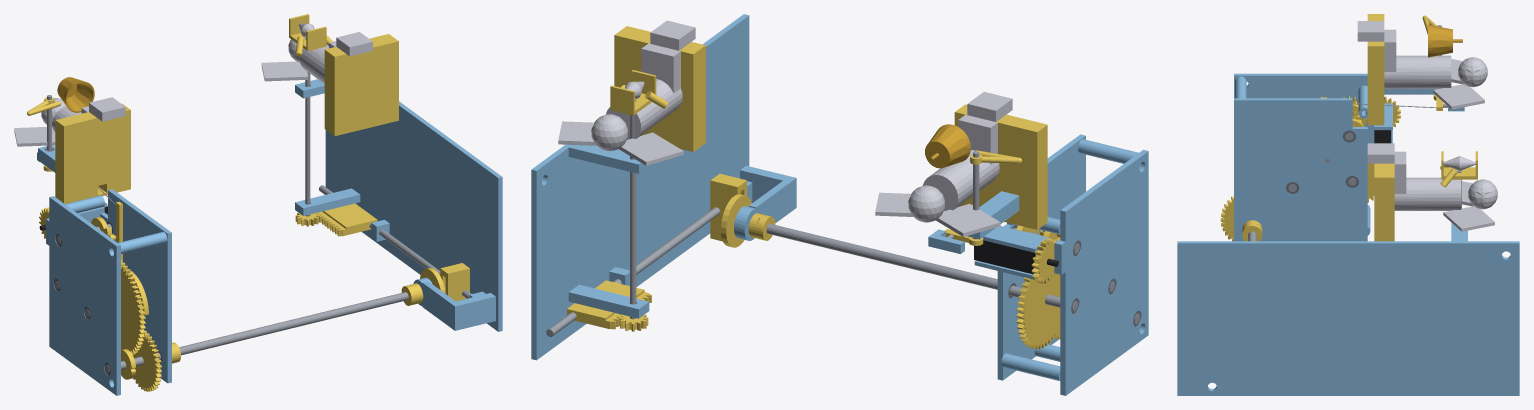
File: e1_angels.dae
3 renders of one model, left to right at view 1: azimuth 30°, elevation 25°; view 2: azimuth 150°, elevation 25°; view 3: azimuth 270°, elevation 25°, orthographic. The views are drawn at different scales.
Visible parts, largest first — view 1: glass_tower_plate, tower_outer_plate, plinth_glass, plinth_bell, tower_inner_plate, figure_glass, glass_crank_block, cross_shaft, figure_bell, count_wheel_60, rack, cross_gear_36 (+7 smaller); view 2: glass_tower_plate, tower_outer_plate, figure_bell, figure_glass, plinth_bell, plinth_glass, tower_inner_plate, glass_crank_block, cross_shaft, intermediate_48_12, tower_pillars, gearmotor_bracket (+13 smaller); view 3: glass_tower_plate, tower_inner_plate, figure_bell, figure_glass, tower_outer_plate, plinth_glass, plinth_bell, bell, tower_pillars, forearms_and_frame, gearmotor_bracket, cross_gear_36 (+3 smaller).
Boxes of the visible parts, bbox=[...] form: glass_tower_plate: bbox=[325, 101, 502, 331]; tower_outer_plate: bbox=[49, 196, 120, 395]; plinth_glass: bbox=[324, 34, 398, 135]; plinth_bell: bbox=[55, 104, 130, 203]; tower_inner_plate: bbox=[100, 189, 171, 383]; figure_glass: bbox=[261, 32, 372, 83]; glass_crank_block: bbox=[413, 277, 495, 330]; cross_shaft: bbox=[179, 292, 408, 355]; figure_bell: bbox=[14, 97, 125, 146]; count_wheel_60: bbox=[121, 260, 145, 355]; rack: bbox=[316, 203, 377, 236]; cross_gear_36: bbox=[133, 330, 161, 391]; glass_tower_plate: bbox=[531, 14, 749, 360]; tower_outer_plate: bbox=[1060, 149, 1148, 395]; figure_bell: bbox=[875, 92, 1012, 236]; figure_glass: bbox=[558, 20, 695, 165]; plinth_bell: bbox=[954, 104, 1047, 229]; plinth_glass: bbox=[614, 26, 705, 151]; tower_inner_plate: bbox=[997, 134, 1085, 380]; glass_crank_block: bbox=[734, 165, 796, 240]; cross_shaft: bbox=[766, 223, 997, 289]; intermediate_48_12: bbox=[1016, 271, 1060, 349]; tower_pillars: bbox=[1001, 139, 1138, 380]; gearmotor_bracket: bbox=[974, 226, 1065, 279]; glass_tower_plate: bbox=[1177, 241, 1519, 395]; tower_inner_plate: bbox=[1234, 98, 1367, 241]; figure_bell: bbox=[1357, 21, 1487, 109]; figure_glass: bbox=[1367, 143, 1497, 231]; tower_outer_plate: bbox=[1234, 73, 1367, 126]; plinth_glass: bbox=[1374, 163, 1394, 241]; plinth_bell: bbox=[1367, 14, 1384, 125]; bell: bbox=[1428, 24, 1462, 57]; tower_pillars: bbox=[1235, 76, 1370, 235]; forearms_and_frame: bbox=[1440, 151, 1477, 187]; gearmotor_bracket: bbox=[1367, 103, 1392, 143]; cross_gear_36: bbox=[1220, 196, 1233, 241].
Size of the model in its own units: 248 by 205 by 155.
